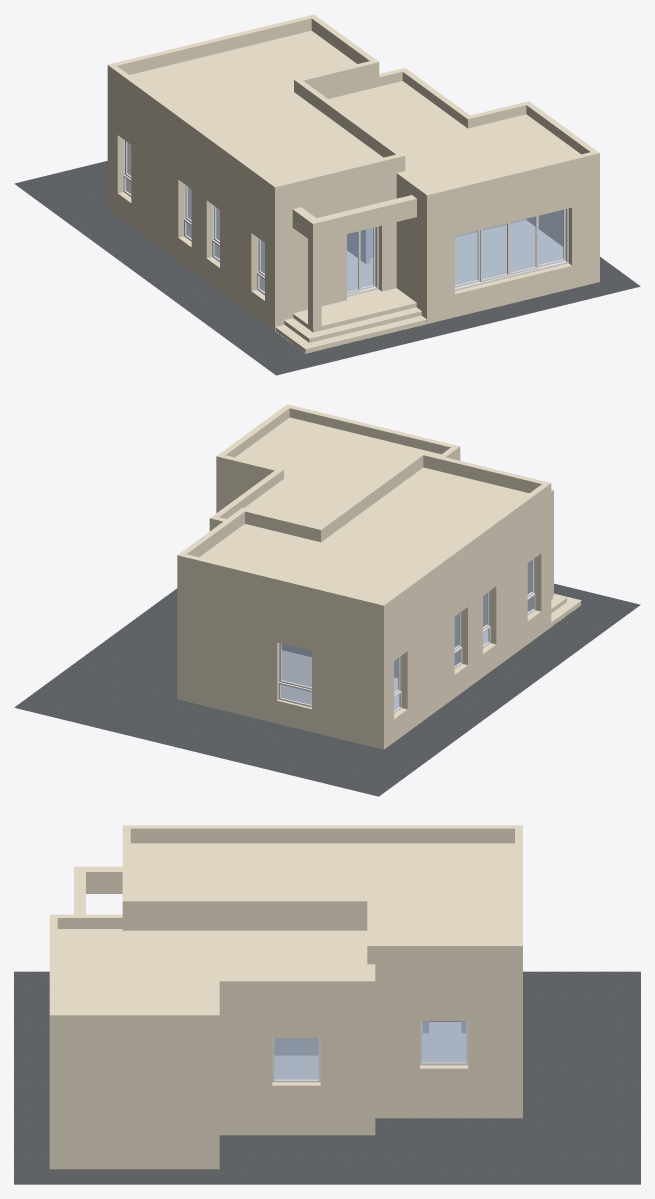
The picture shows the model from 3 angles, top to bottom: view 1: azimuth 30°, elevation 25°; view 2: azimuth 150°, elevation 25°; view 3: azimuth 270°, elevation 25°; orthographic projection. The views are drawn at different scales.
Parts seen in each view (by area): view 1: 5808, 9414, Root Node, 9496, 7535, 5842, 10467, 7940, 7365, 6540, 9635; view 2: 5808, Root Node, 9414, 9496, Component#5, 10467, 5842; view 3: 5808, Root Node, 9414, 9496, Component#7 (×2), 10467, 7992, 9635, 7940.
Boxes of the visible parts, bbox=[...] form: 5808: bbox=[107, 14, 599, 331]; 9414: bbox=[130, 30, 382, 183]; Root Node: bbox=[14, 161, 640, 375]; 9496: bbox=[328, 81, 580, 191]; 7535: bbox=[455, 208, 568, 290]; 5842: bbox=[275, 288, 426, 353]; 10467: bbox=[129, 193, 563, 291]; 7940: bbox=[317, 195, 416, 239]; 7365: bbox=[347, 226, 378, 296]; 6540: bbox=[308, 218, 321, 328]; 9635: bbox=[186, 187, 467, 263]; 5808: bbox=[177, 404, 551, 749]; Root Node: bbox=[14, 583, 640, 796]; 9414: bbox=[199, 467, 528, 601]; 9496: bbox=[235, 417, 440, 525]; Component#5: bbox=[278, 643, 311, 707]; 10467: bbox=[281, 611, 528, 710]; 5842: bbox=[551, 593, 581, 626]; 5808: bbox=[49, 825, 522, 1169]; Root Node: bbox=[14, 971, 640, 1184]; 9414: bbox=[130, 843, 514, 942]; 9496: bbox=[57, 929, 367, 1011]; Component#7 (×2): bbox=[272, 1021, 468, 1082]; 10467: bbox=[274, 1021, 466, 1079]; 7992: bbox=[86, 866, 122, 893]; 9635: bbox=[274, 1038, 318, 1055]; 7940: bbox=[74, 872, 85, 914].
Bounding box in the file's own units: 12.45 × 4.7 × 15.5.
336 materials, 19 textured.
